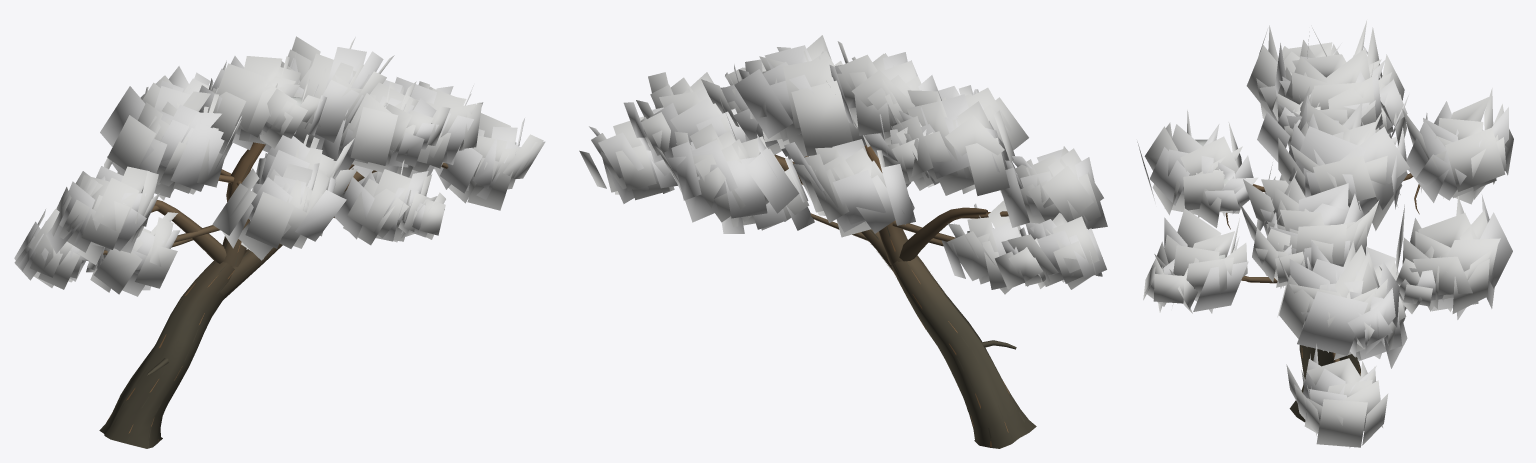
The picture shows the model from 3 angles, left to right: view 1: azimuth 30°, elevation 25°; view 2: azimuth 150°, elevation 25°; view 3: azimuth 270°, elevation 25°; orthographic projection. The views are drawn at different scales.
Visible parts, largest first — view 1: crown, trunk; view 2: crown, trunk; view 3: crown, trunk.
Boxes of the visible parts, bbox=[...] form: crown: bbox=[14, 36, 545, 296]; trunk: bbox=[99, 142, 448, 448]; crown: bbox=[579, 35, 1107, 294]; trunk: bbox=[774, 144, 1036, 448]; crown: bbox=[1137, 20, 1513, 448]; trunk: bbox=[1225, 173, 1420, 422].
Size of the model in its own units: 11.95 by 8.05 by 6.22.
